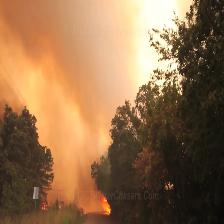fire: (35, 187, 74, 216), (97, 187, 118, 220)
smoke: (0, 0, 163, 170)
